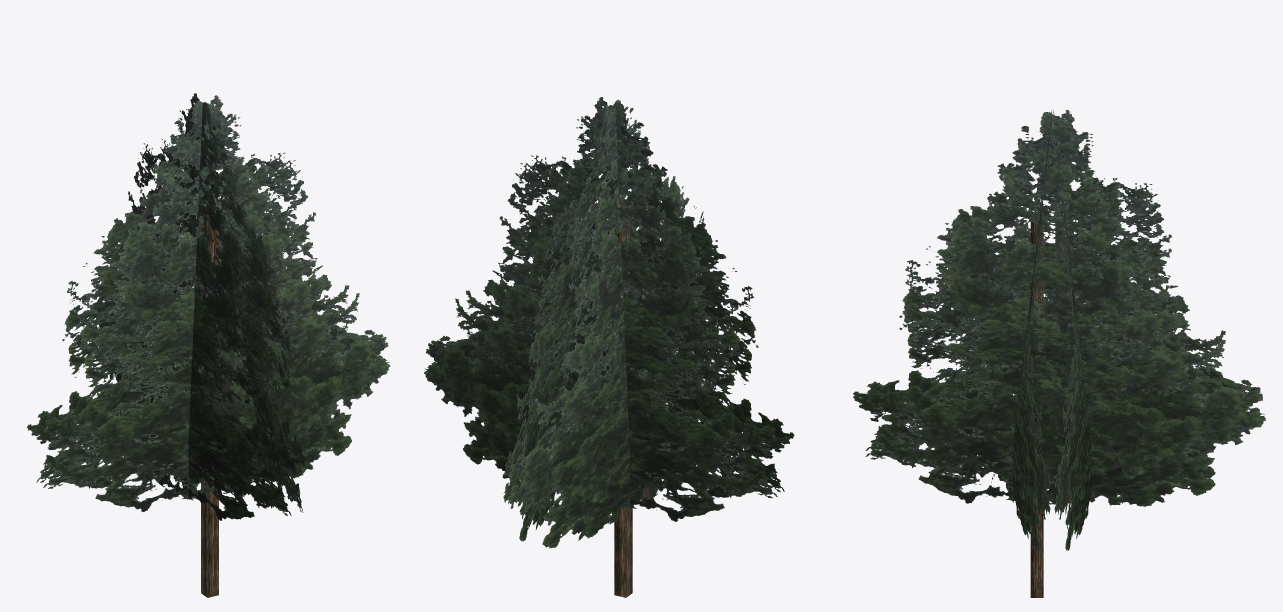
File: FBX_Tree.fbx
3 renders of one model, left to right at view 1: azimuth 30°, elevation 25°; view 2: azimuth 150°, elevation 25°; view 3: azimuth 270°, elevation 25°, orthographic. The views are drawn at different scales.
Parts seen in each view (by area): view 1: MDL_Tree; view 2: MDL_Tree; view 3: MDL_Tree.
Part boxes in pixels (left/top/right/bottom): MDL_Tree: left=27, top=93, right=390, bottom=597; MDL_Tree: left=424, top=97, right=794, bottom=597; MDL_Tree: left=853, top=110, right=1265, bottom=597.
Size of the model in its own units: 1065 by 1332 by 1065.
1 material, 1 textured.
